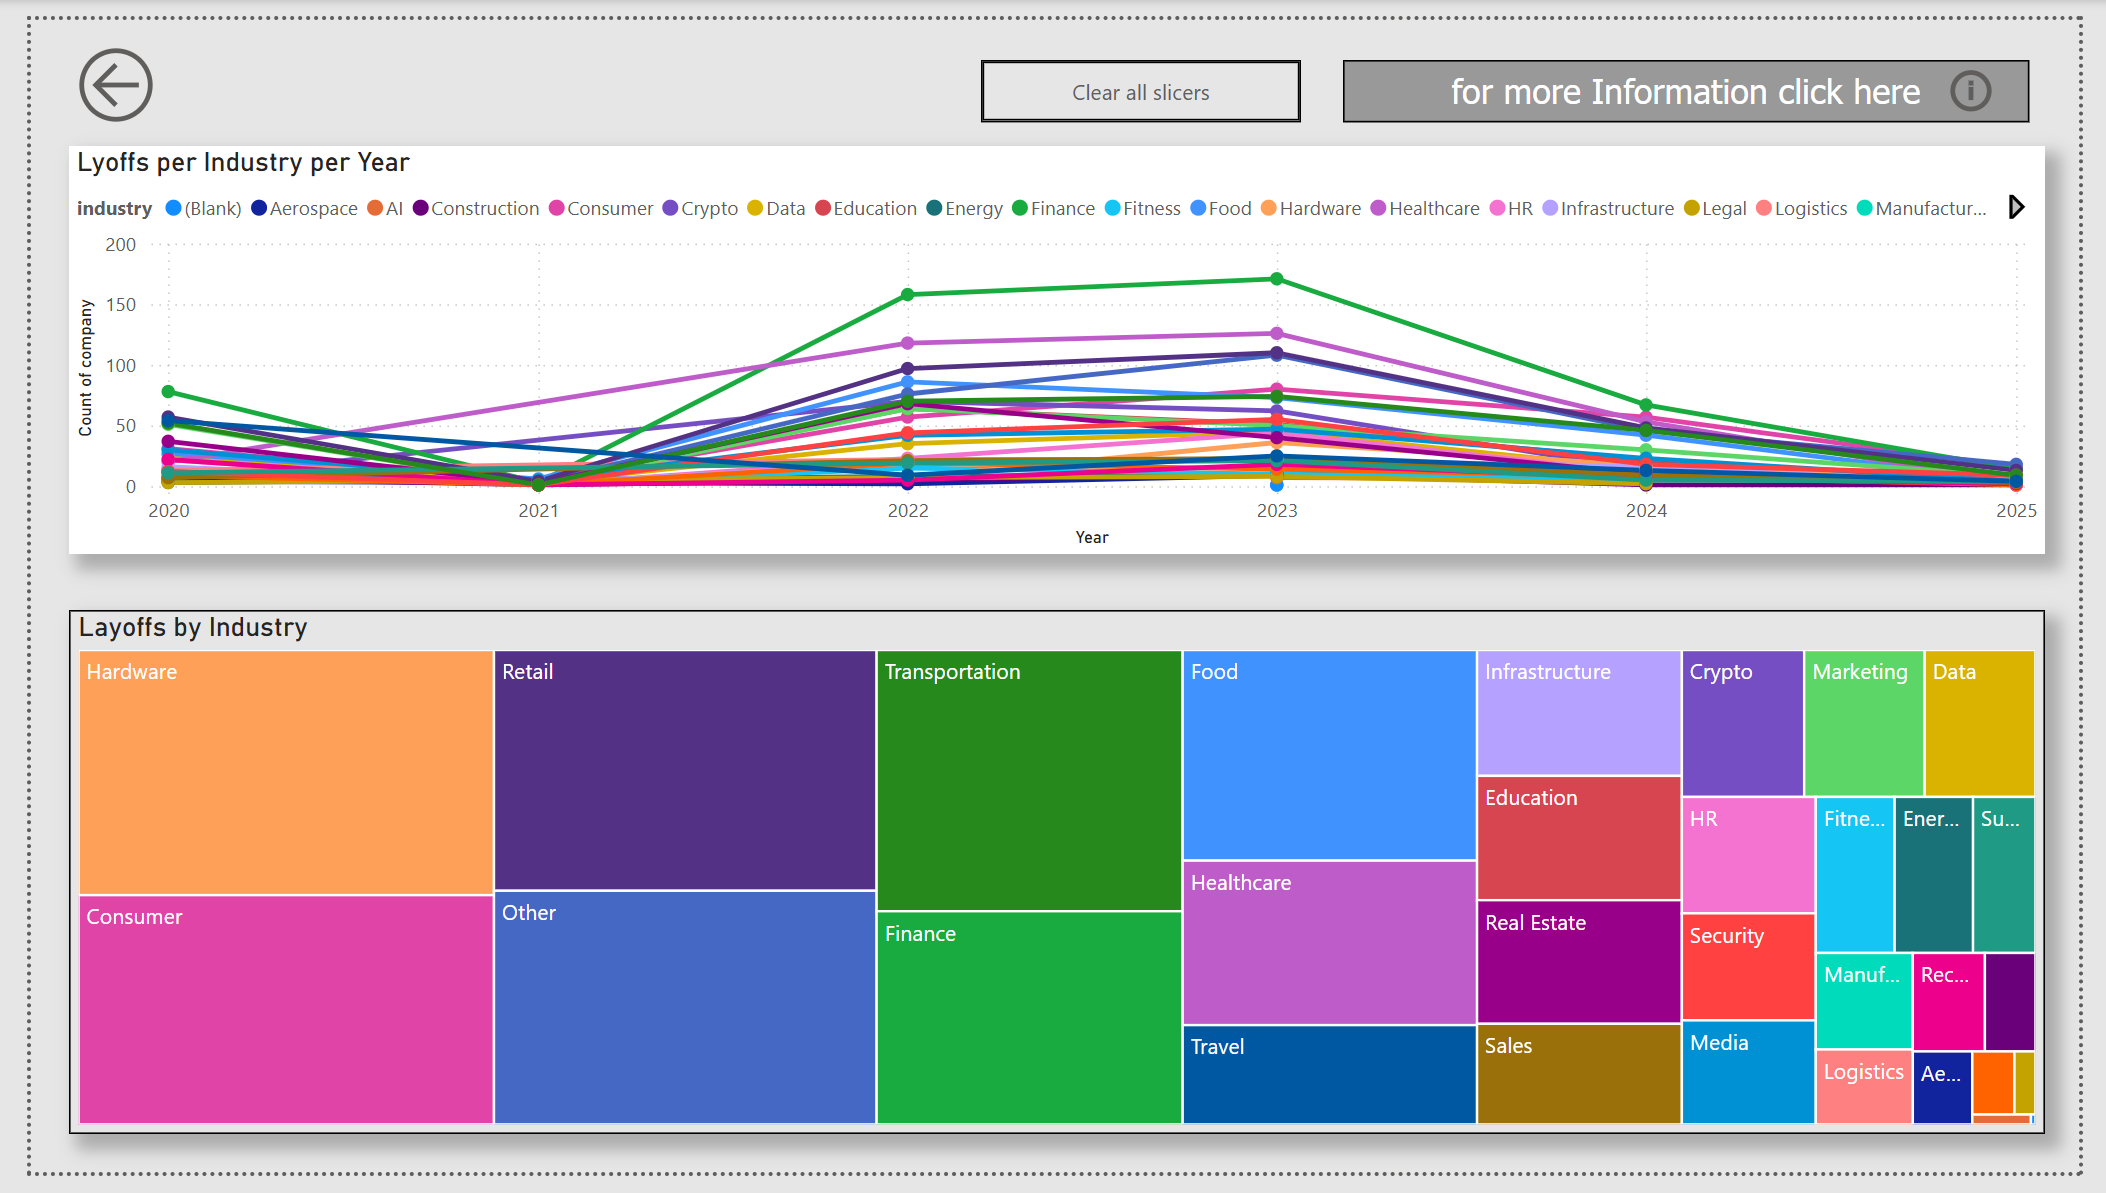

The dashboard page shown, as its layout file describes it:
{"tool":"powerbi","page":{"name":"Information","canvas":[1280,720],"ordinal":2},"visuals":[{"type":"treemap","title":"Layoffs by Industry","fields":{"Group":["Tech Layoffs Working.industry"],"Values":["Sum(Tech Layoffs Working.total_laid_off)"]},"box":[23.8,368.8,1235,327.5],"z":0},{"type":"textbox","box":[820,25,428.8,38.8],"z":1000},{"type":"lineChart","title":"Lyoffs per Industry per Year","fields":{"Category":["Tech Layoffs Working.date.Variation.Date Hierarchy.Year"],"Series":["Tech Layoffs Working.industry"],"Y":["CountNonNull(Tech Layoffs Working.company)"]},"box":[23.8,78.8,1235,255],"z":2000},{"type":"actionButton","box":[1195,26.2,35,36.2],"z":3000},{"type":"actionButton","box":[23.8,11.2,66.2,58.8],"z":4000},{"type":"actionButton","box":[593.8,25,200,38.8],"z":5000}]}

Visuals, with their boxes in screenshot pixels (x1, y1, x2, y2), scaled from the page's 1280x720 canvas onto the 2106x1193 screenshot:
"Layoffs by Industry" treemap: [left=39, top=611, right=2071, bottom=1154]
textbox: [left=1349, top=41, right=2055, bottom=106]
"Lyoffs per Industry per Year" lineChart: [left=39, top=131, right=2071, bottom=553]
actionButton: [left=1966, top=43, right=2024, bottom=103]
actionButton: [left=39, top=19, right=148, bottom=116]
actionButton: [left=977, top=41, right=1306, bottom=106]
